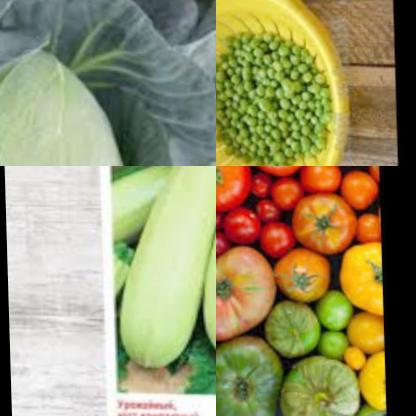cabbage: (0, 0, 216, 166)
peas: (216, 23, 323, 166)
tomato: (270, 349, 353, 416), (216, 244, 272, 340), (216, 334, 277, 416), (250, 166, 378, 205), (216, 195, 296, 256), (286, 193, 354, 256), (335, 224, 380, 319), (254, 297, 321, 360), (267, 241, 331, 305), (346, 351, 383, 416), (308, 281, 355, 330), (341, 307, 381, 359), (216, 166, 253, 209), (313, 325, 348, 362), (335, 342, 367, 373), (339, 398, 382, 416)
vegetable marrow: (119, 166, 216, 402)
